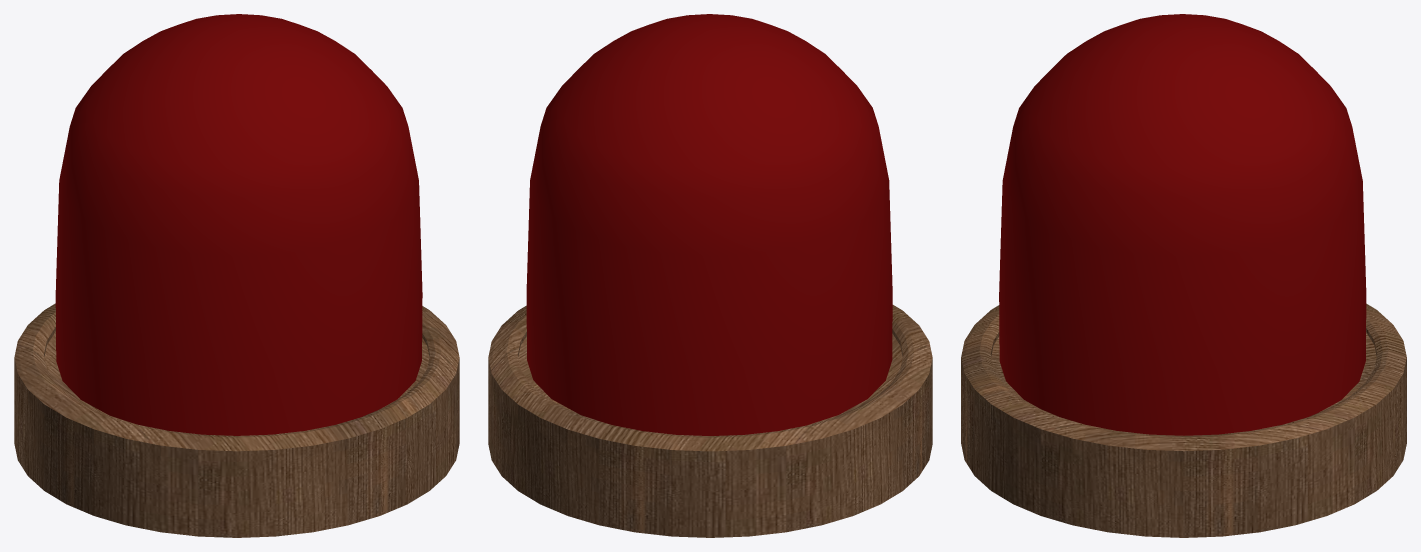
Rendered from Model_Sirene.FBX.
3 renders of one model, left to right at view 1: azimuth 30°, elevation 25°; view 2: azimuth 150°, elevation 25°; view 3: azimuth 270°, elevation 25°, orthographic.
Visible parts, largest first — view 1: OilTank001, Cylinder001; view 2: OilTank001, Cylinder001; view 3: OilTank001, Cylinder001.
Part boxes in pixels (x1,y1,x2,y2): OilTank001: [55, 14, 422, 435]; Cylinder001: [14, 303, 459, 537]; OilTank001: [526, 14, 892, 435]; Cylinder001: [488, 305, 932, 537]; OilTank001: [999, 14, 1366, 435]; Cylinder001: [961, 303, 1406, 537].
Size of the model in its own units: 102 by 105 by 102.
Materials: 2 (1 with a texture image).
